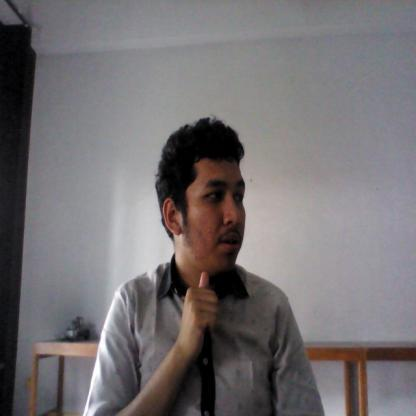Siapa: (179, 266, 223, 360)
